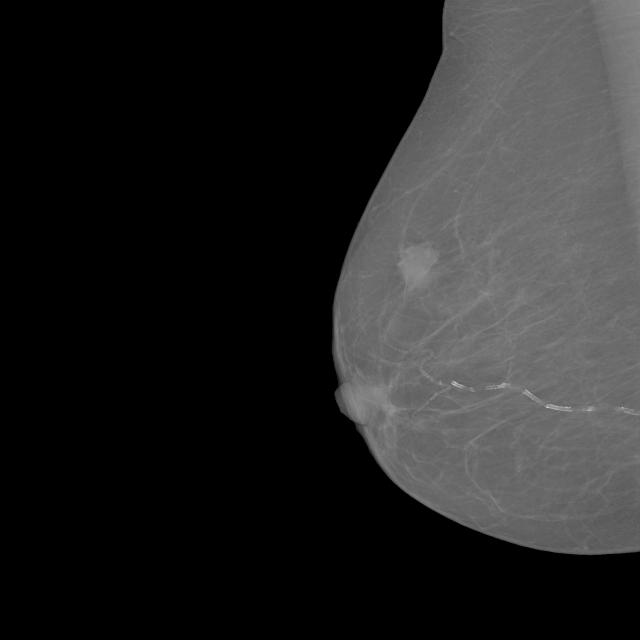Mass_1: (372, 222, 460, 309)
